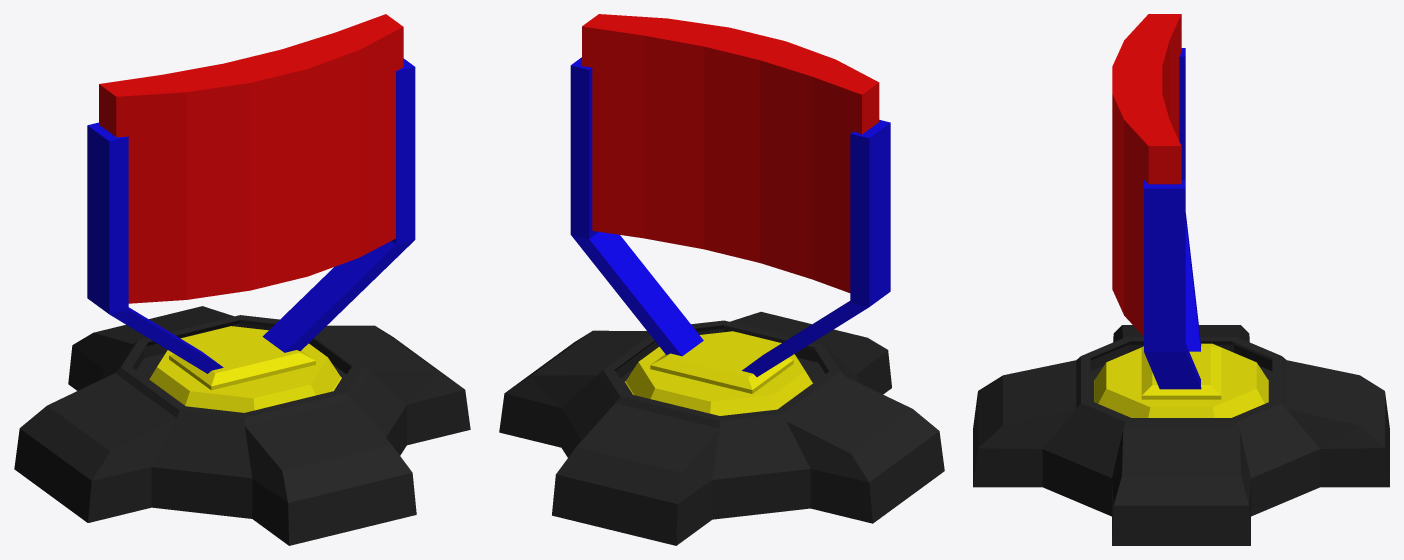
File: SimpleMirror.fbx
3 views of the same model, side by side, from view 1: azimuth 30°, elevation 25°; view 2: azimuth 150°, elevation 25°; view 3: azimuth 270°, elevation 25° (orthographic). The views are drawn at different scales.
Parts seen in each view (by area): view 1: Branch, Base, truc, RotateBase; view 2: Branch, Base, truc, RotateBase; view 3: Base, Branch, truc, RotateBase.
Part boxes in pixels (bbox=[...]): Branch: bbox=[99, 14, 403, 303]; Base: bbox=[14, 306, 470, 545]; truc: bbox=[87, 58, 415, 373]; RotateBase: bbox=[149, 326, 341, 412]; Branch: bbox=[582, 14, 879, 292]; Base: bbox=[499, 311, 944, 545]; truc: bbox=[570, 57, 890, 376]; RotateBase: bbox=[625, 331, 812, 415]; Base: bbox=[973, 325, 1389, 545]; Branch: bbox=[1112, 14, 1181, 336]; truc: bbox=[1144, 48, 1201, 389]; RotateBase: bbox=[1094, 343, 1268, 417].
Size of the model in its own units: 100 by 100 by 100.
